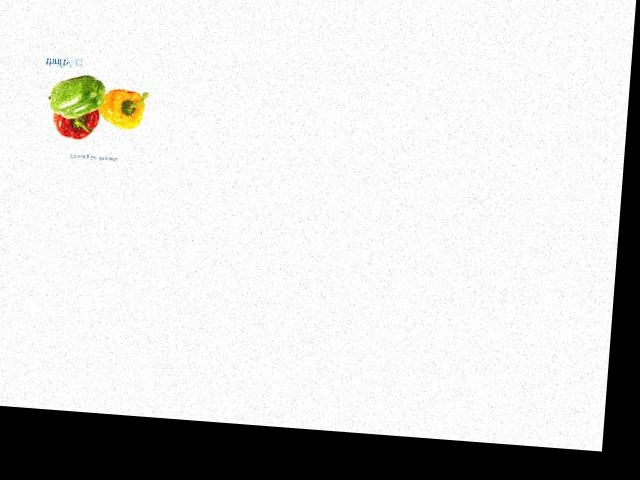bell_pepper: (46, 68, 110, 120)
